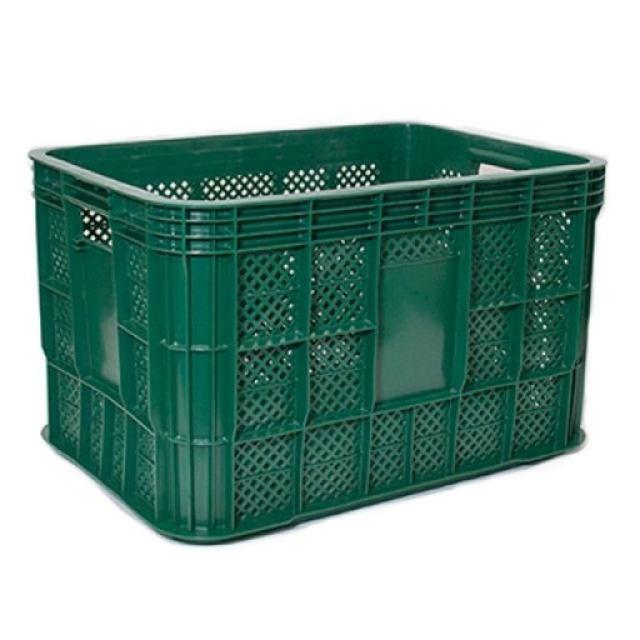basket: (32, 121, 613, 545)
